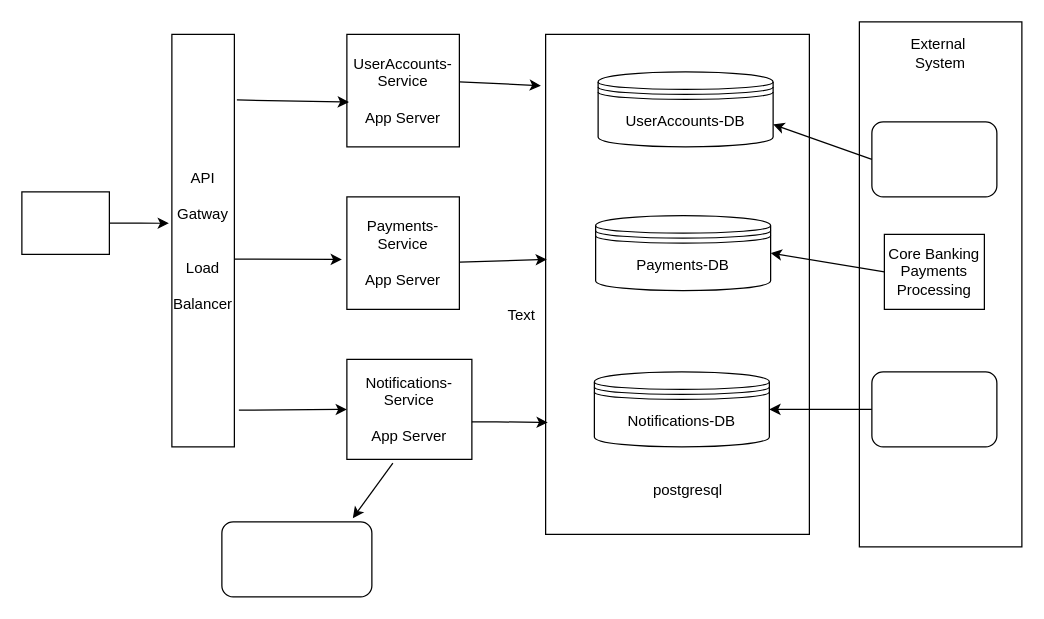
The diagram is 1044 pixels wide and 619 high, and some of its shapes have lost their labels. The shapes that lost their labels are listed below. From the top down, each one's centre as x and y in pixels, then its label:
At (934,159): "Core Banking Accounts Processing".
At (65,222): "Client".
At (934,409): "Pull Based Service to Publish Notification".
At (296,559): "secrets Manger".
